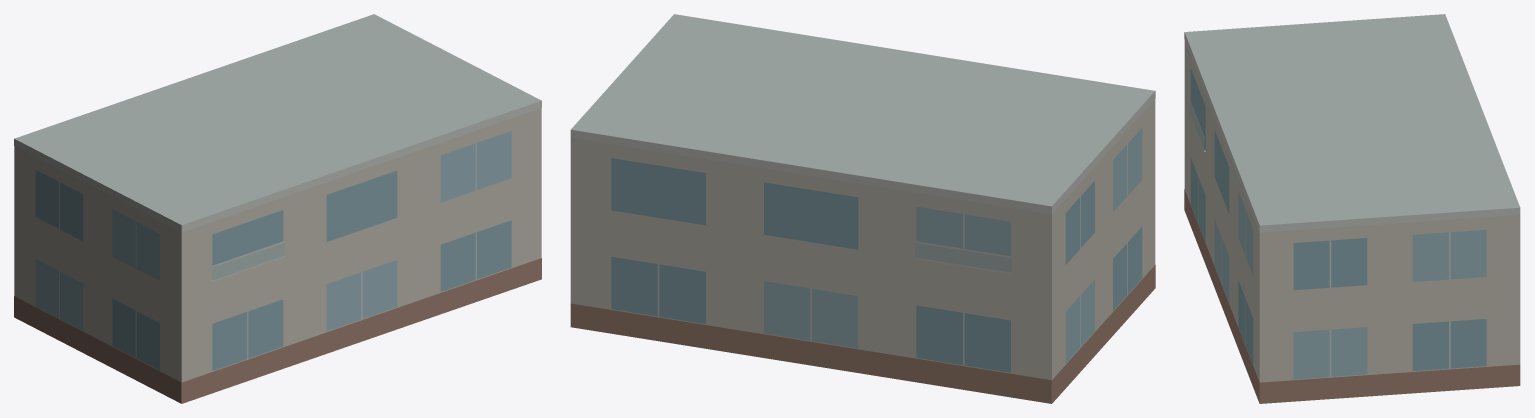
Rendered from survey-upis-32782595.glb.
3 renders of one model, left to right at view 1: azimuth 30°, elevation 25°; view 2: azimuth 150°, elevation 25°; view 3: azimuth 270°, elevation 25°, orthographic. The views are drawn at different scales.
Visible parts, largest first — view 1: survey-upis-32782595.tmp; view 2: survey-upis-32782595.tmp; view 3: survey-upis-32782595.tmp.
Part boxes in pixels (left/top/right/bottom): survey-upis-32782595.tmp: left=14, top=14, right=541, bottom=403; survey-upis-32782595.tmp: left=570, top=14, right=1155, bottom=403; survey-upis-32782595.tmp: left=1184, top=14, right=1520, bottom=403.
Size of the model in its own units: 15.54 by 6.1 by 10.43.
